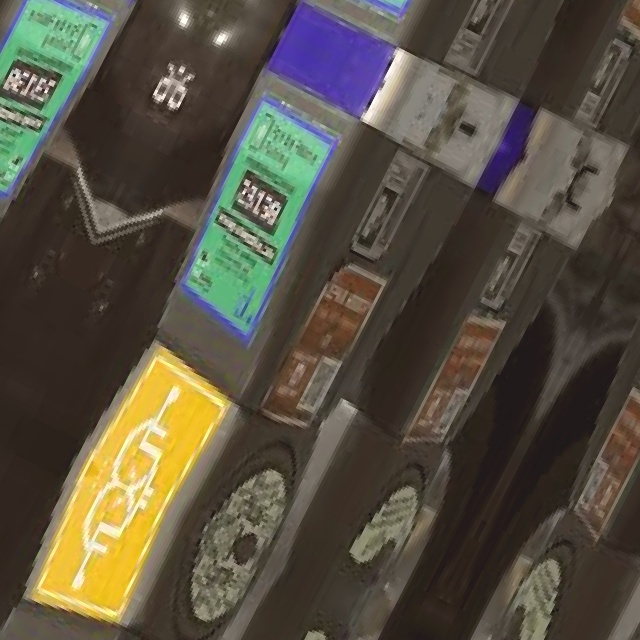ISA: (106, 372, 206, 501), (52, 478, 152, 607)
